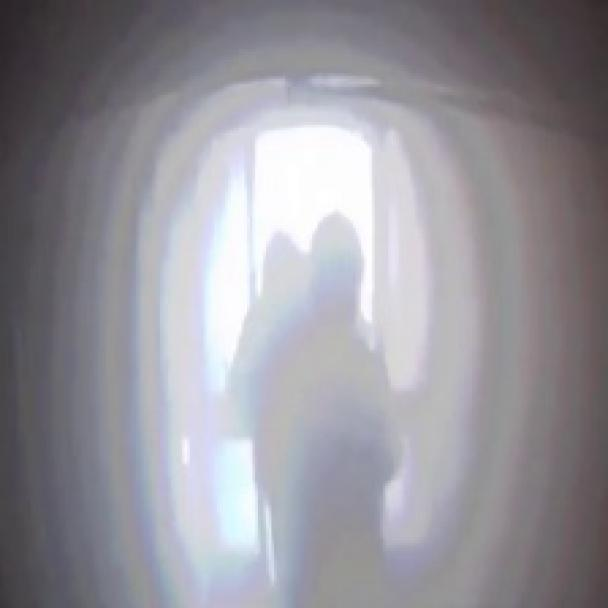smoke: (79, 16, 605, 606)
